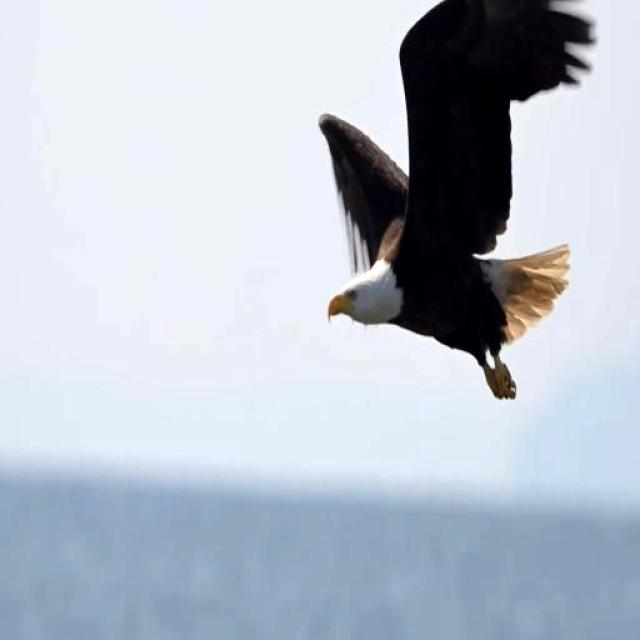airplane: (295, 0, 640, 440)
